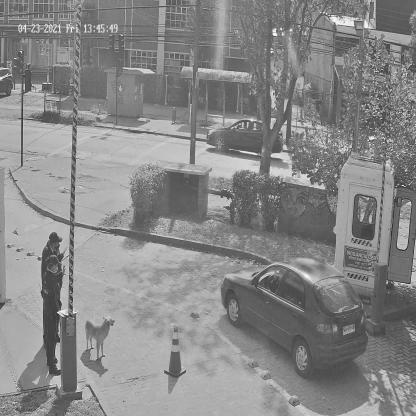Patente: (342, 321, 357, 336)
